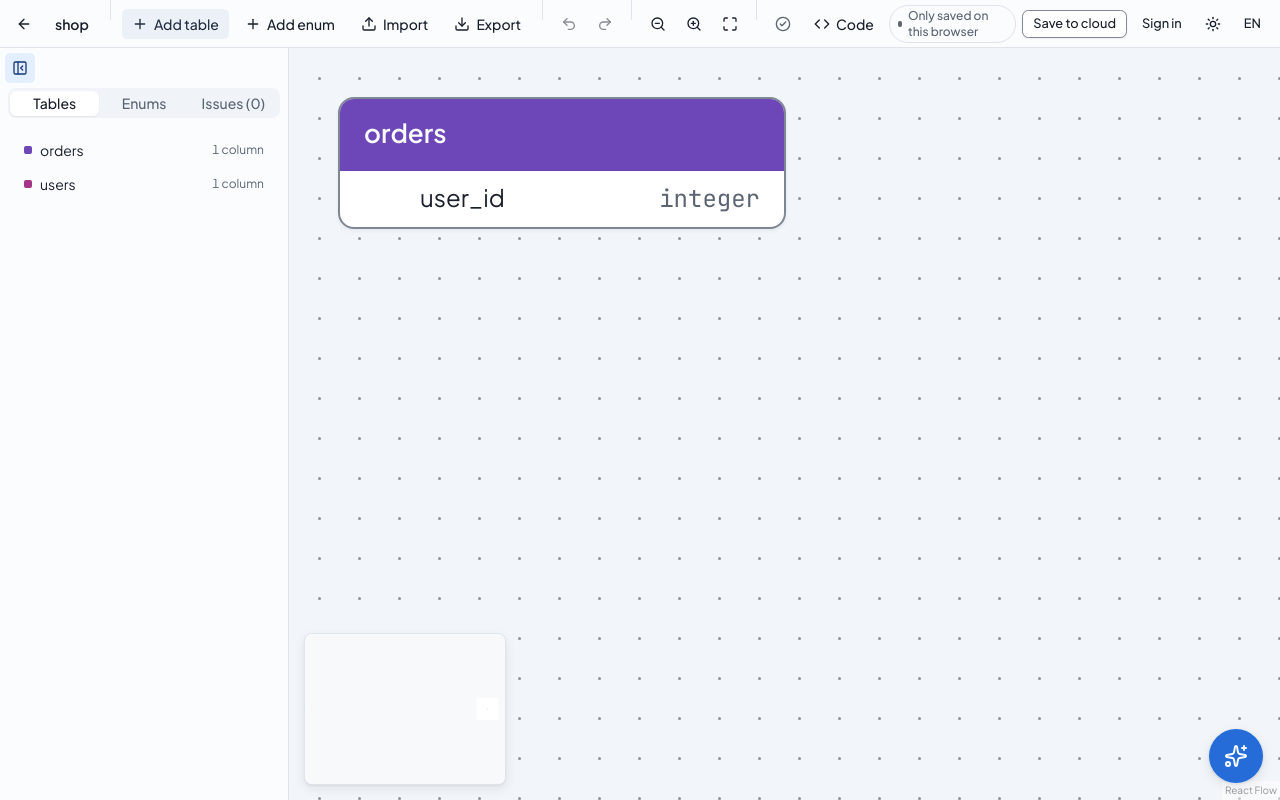
EditorWorkspace › opens the create relation dialog from the table panel button
Click the button "orders 1 column": [144, 150] box [16,134,272,166]
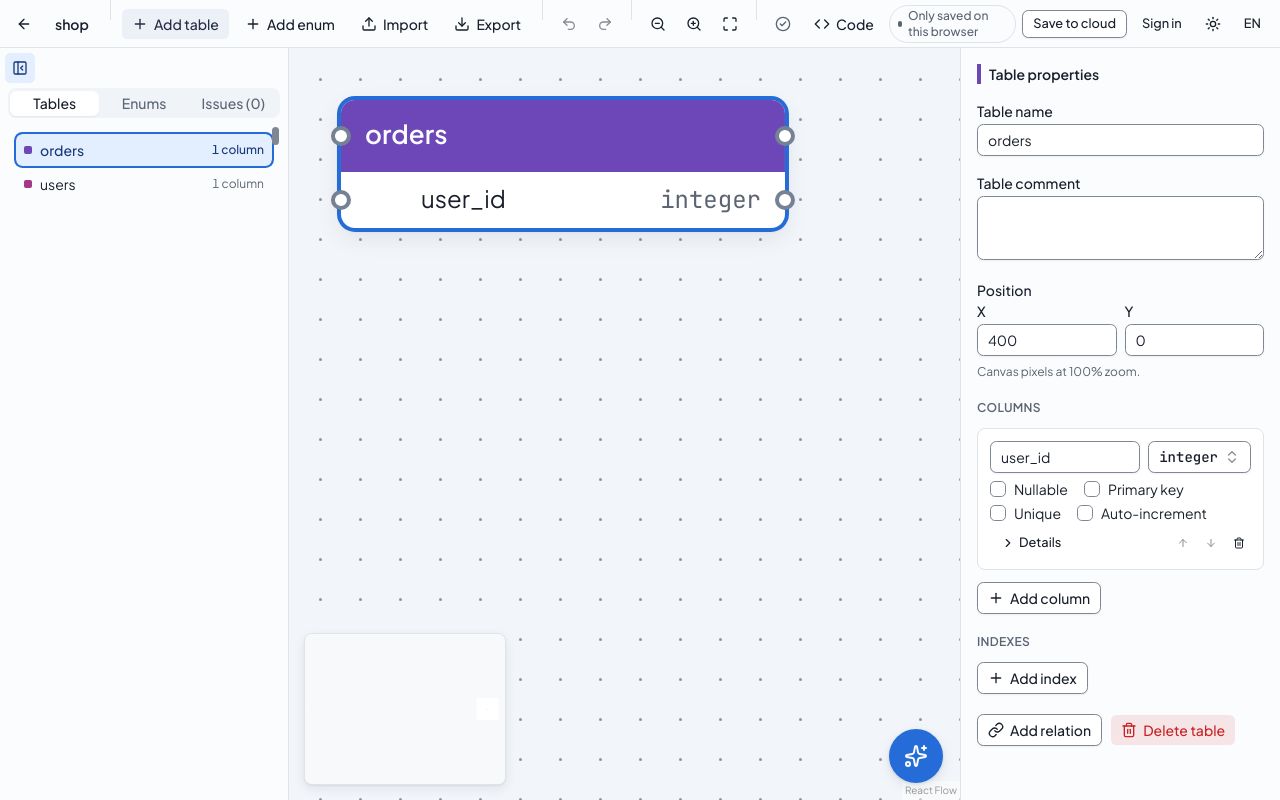
Click the button "Add relation": [1040, 730] box [977,714,1102,746]
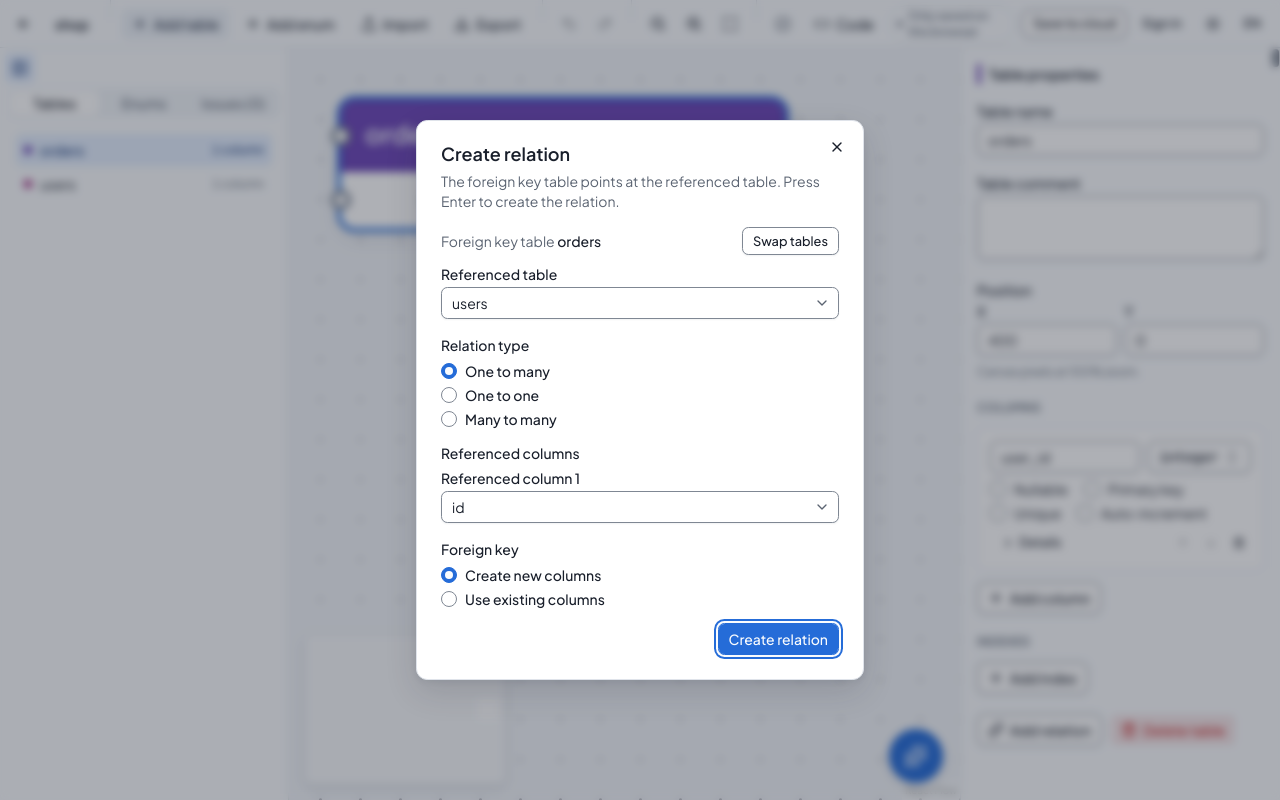
Expected: the dropdown named "Referenced table" reads "users", [441,287,839,319]
